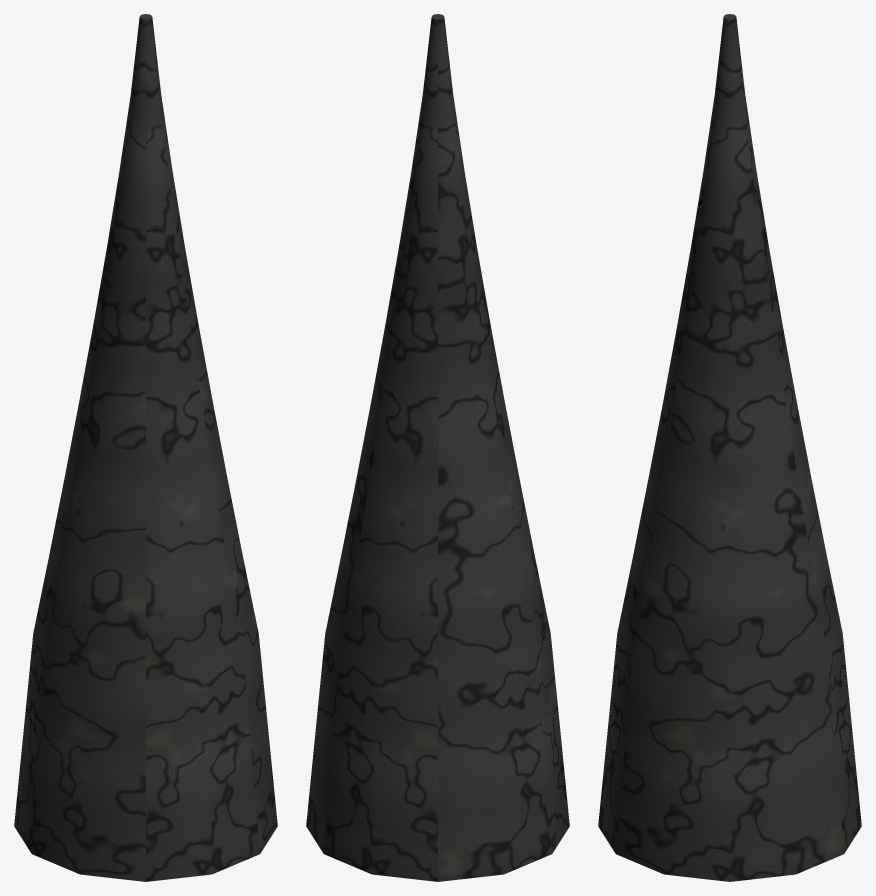
File: stalagmite.glb
The picture shows the model from 3 angles, left to right: view 1: azimuth 30°, elevation 25°; view 2: azimuth 150°, elevation 25°; view 3: azimuth 270°, elevation 25°; orthographic projection.
Parts seen in each view (by area): view 1: boat_caverock; view 2: boat_caverock; view 3: boat_caverock.
Boxes of the visible parts, box(x1,y1,x2,y2) form: boat_caverock: box(14, 14, 277, 881); boat_caverock: box(306, 14, 569, 881); boat_caverock: box(598, 14, 861, 881).
Size of the model in its own units: 1.24 by 4.2 by 1.24.
Materials: 1 (1 with a texture image).
